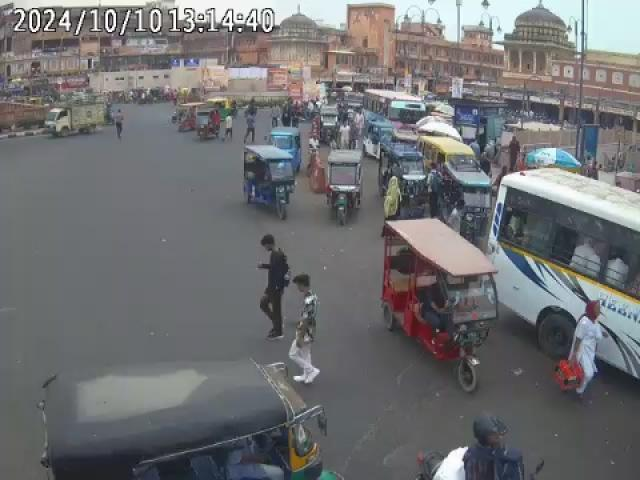auto: (40, 356, 338, 480), (379, 213, 501, 393), (419, 134, 494, 238), (240, 142, 295, 220), (384, 131, 430, 218), (324, 148, 364, 226), (197, 110, 222, 142), (175, 103, 198, 132)
bus: (494, 168, 640, 373), (363, 88, 428, 138)
helmet: (471, 412, 512, 450)
lorry: (44, 100, 109, 138)
motorbike-rider: (408, 413, 546, 480)
person: (563, 296, 606, 403), (256, 234, 295, 342), (294, 274, 321, 370), (570, 236, 602, 280)
